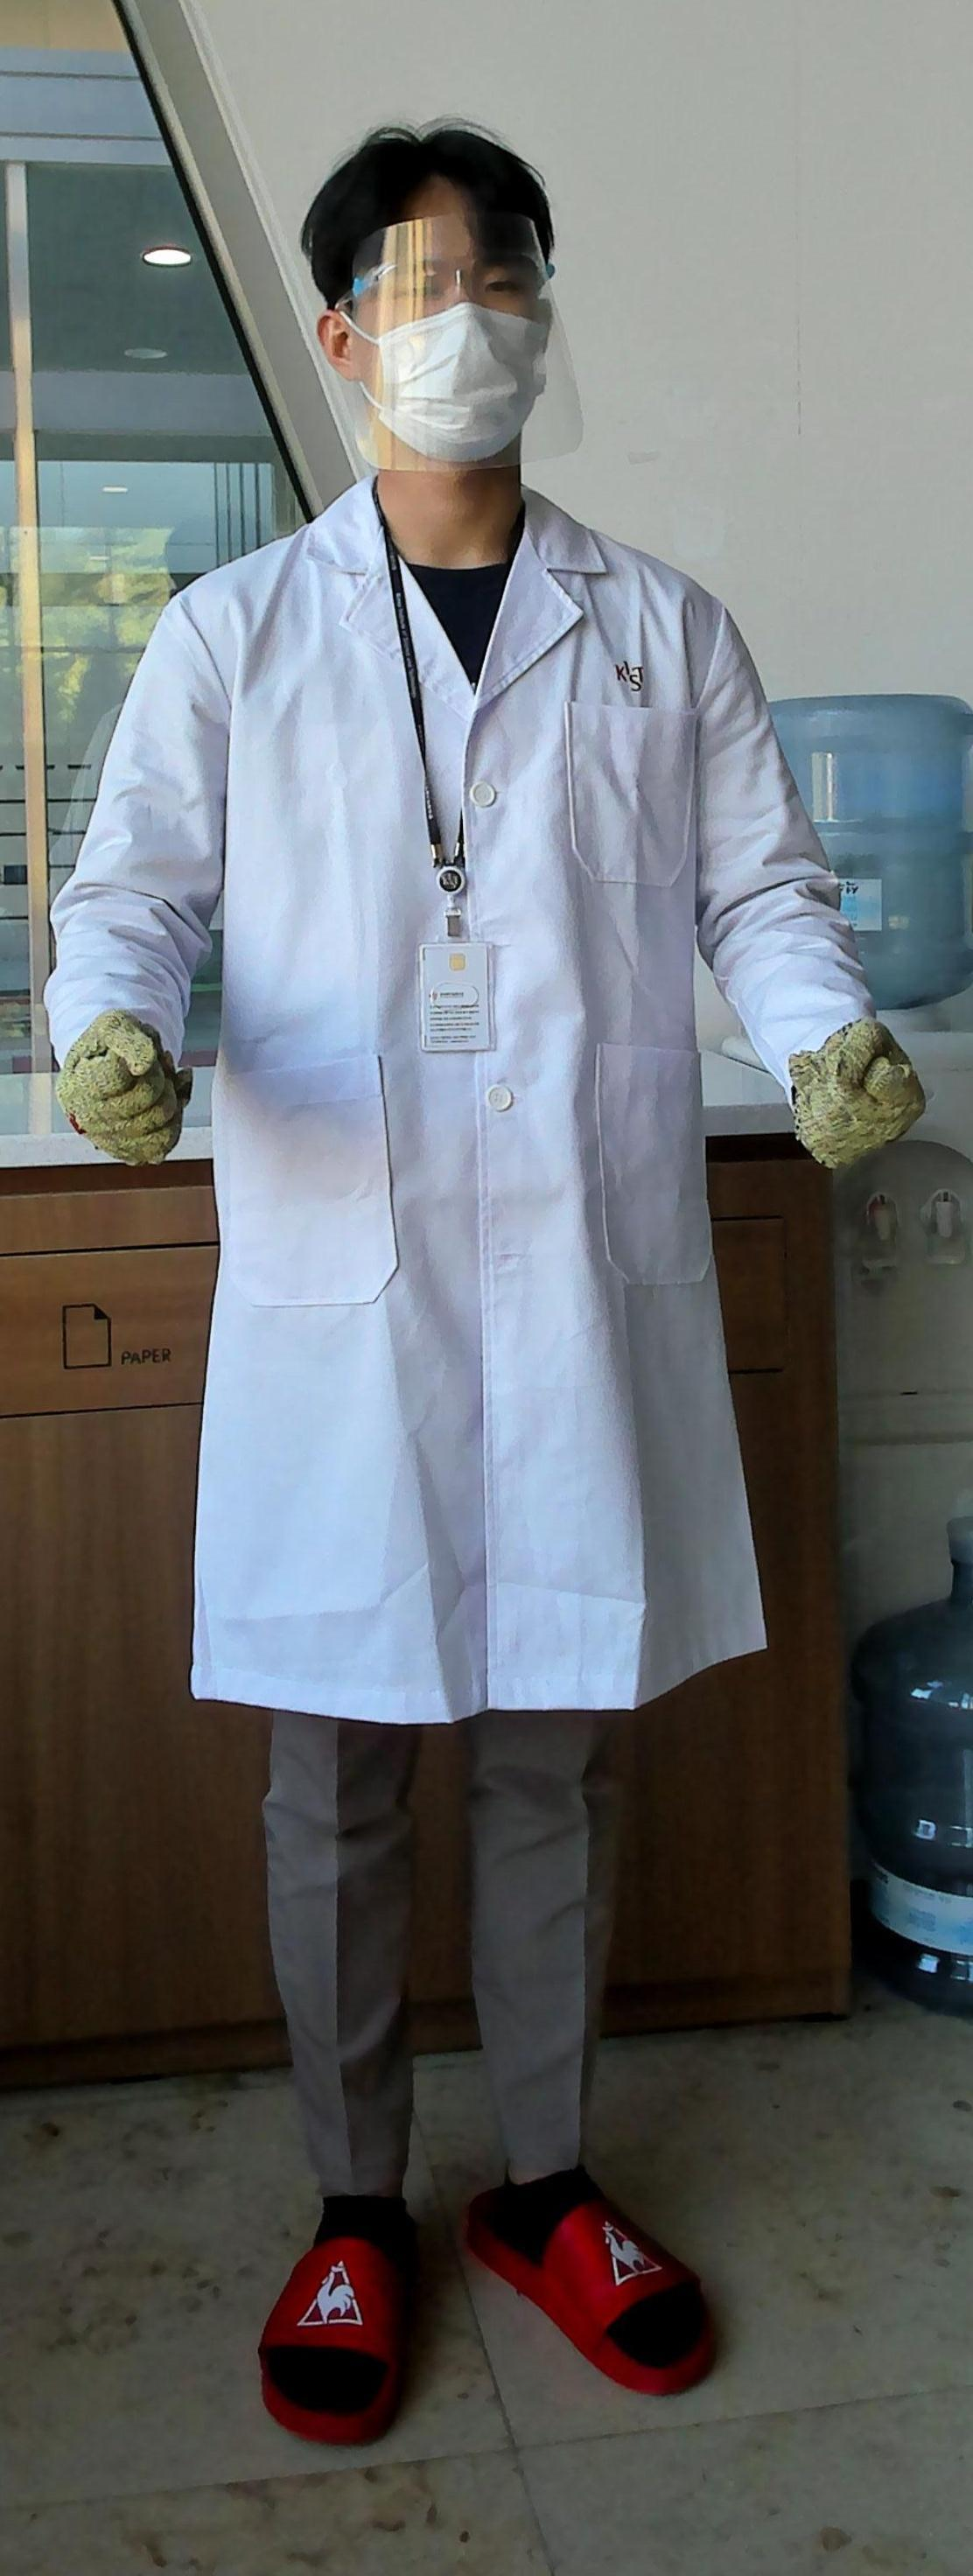lab_coat: (189, 527, 743, 1718)
